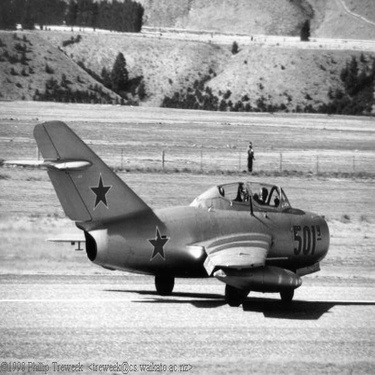airplane: (12, 101, 344, 318)
